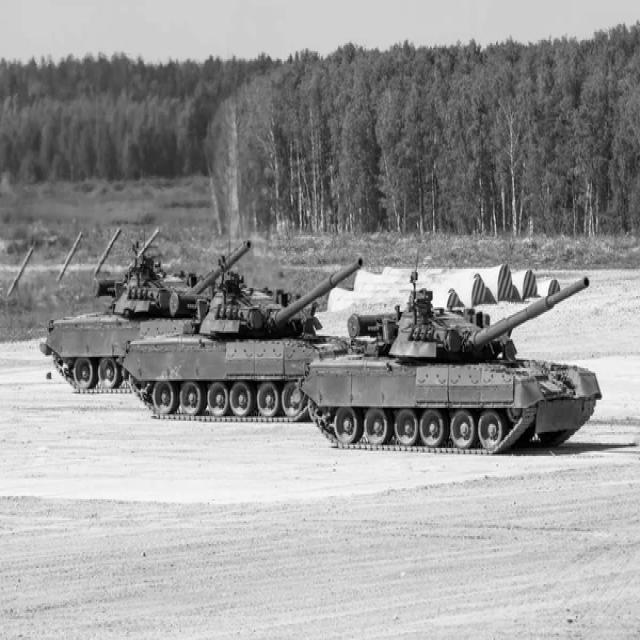Tank: (306, 268, 608, 458), (123, 256, 369, 426), (38, 232, 247, 408)
